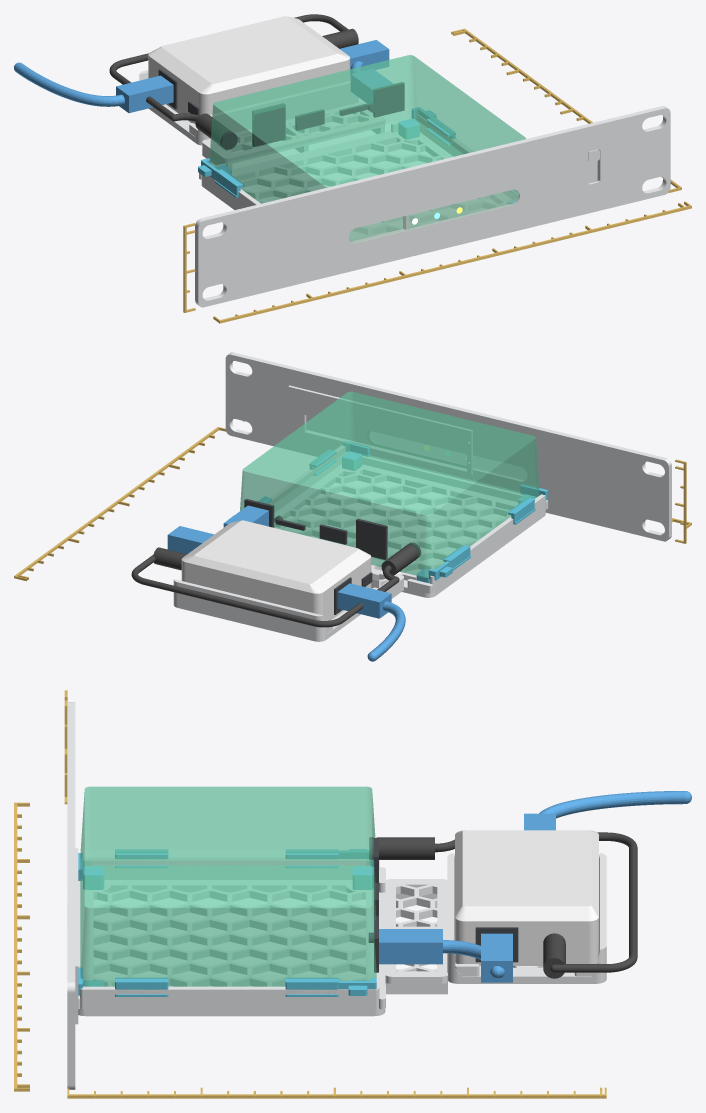
Rendered from home-assistant-green-rack-stacked_center.glb.
3 renders of one model, top to bottom at view 1: azimuth 30°, elevation 25°; view 2: azimuth 150°, elevation 25°; view 3: azimuth 270°, elevation 25°, orthographic. The views are drawn at different scales.
Parts seen in each view (by area): view 1: White rack mount, Home Assistant Green, TP-Link TL-PD30G-M2, Green tray — standard, 10 mm dimension rulers, Home Assistant Green connector faces, Incoming PoE cable, TP-Link cradle side walls, LED window insert, DC cable, Internal Ethernet cable, Green retention — segmented rails + rear latch (+2 smaller); view 2: Home Assistant Green, White rack mount, Green tray — standard, TP-Link TL-PD30G-M2, LED shutter retainer, DC cable, TP-Link cradle side walls, Green retention — segmented rails + rear latch, Home Assistant Green connector faces, Incoming PoE cable, 10 mm dimension rulers, LED window insert (+2 smaller); view 3: Home Assistant Green, Green tray — standard, TP-Link TL-PD30G-M2, White rack mount, Green retention — segmented rails + rear latch, 10 mm dimension rulers, Internal Ethernet cable, DC cable, Incoming PoE cable, TP-Link cradle side walls, TP-Link cradle floor, Home Assistant Green connector faces (+1 smaller).
Part boxes in pixels (x1=…): White rack mount: x1=195, y1=102, x2=670, y2=307; Home Assistant Green: x1=209, y1=55, x2=525, y2=240; TP-Link TL-PD30G-M2: x1=148, y1=16, x2=350, y2=124; Green tray — standard: x1=199, y1=115, x2=473, y2=209; 10 mm dimension rulers: x1=183, y1=28, x2=691, y2=323; Home Assistant Green connector faces: x1=220, y1=82, x2=404, y2=149; Incoming PoE cable: x1=14, y1=62, x2=173, y2=113; TP-Link cradle side walls: x1=139, y1=70, x2=358, y2=139; LED window insert: x1=349, y1=189, x2=519, y2=243; DC cable: x1=109, y1=14, x2=358, y2=145; Internal Ethernet cable: x1=340, y1=40, x2=392, y2=102; Green retention — segmented rails + rear latch: x1=198, y1=107, x2=518, y2=203; Home Assistant Green: x1=240, y1=391, x2=539, y2=577; White rack mount: x1=225, y1=352, x2=671, y2=598; Green tray — standard: x1=268, y1=445, x2=548, y2=597; TP-Link TL-PD30G-M2: x1=181, y1=520, x2=371, y2=620; LED shutter retainer: x1=288, y1=385, x2=473, y2=474; DC cable: x1=131, y1=544, x2=418, y2=627; TP-Link cradle side walls: x1=173, y1=571, x2=379, y2=636; Green retention — segmented rails + rear latch: x1=228, y1=441, x2=548, y2=583; Home Assistant Green connector faces: x1=244, y1=499, x2=421, y2=559; Incoming PoE cable: x1=337, y1=583, x2=405, y2=661; 10 mm dimension rulers: x1=14, y1=421, x2=691, y2=581; LED window insert: x1=366, y1=431, x2=526, y2=479; Home Assistant Green: x1=80, y1=786, x2=376, y2=986; Green tray — standard: x1=78, y1=858, x2=385, y2=1016; TP-Link TL-PD30G-M2: x1=455, y1=830, x2=598, y2=965; White rack mount: x1=67, y1=702, x2=447, y2=1089; Green retention — segmented rails + rear latch: x1=78, y1=849, x2=376, y2=996; 10 mm dimension rulers: x1=14, y1=690, x2=606, y2=1098; Internal Ethernet cable: x1=379, y1=929, x2=512, y2=982; DC cable: x1=376, y1=832, x2=637, y2=978; Incoming PoE cable: x1=524, y1=791, x2=691, y2=830; TP-Link cradle side walls: x1=447, y1=853, x2=606, y2=976; TP-Link cradle floor: x1=448, y1=966, x2=606, y2=983; Home Assistant Green connector faces: x1=368, y1=837, x2=378, y2=972.
Size of what is drawn, in the model's own units: 268 by 44.45 by 254.
